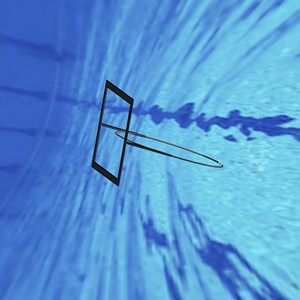circle: (88, 76, 223, 188)
